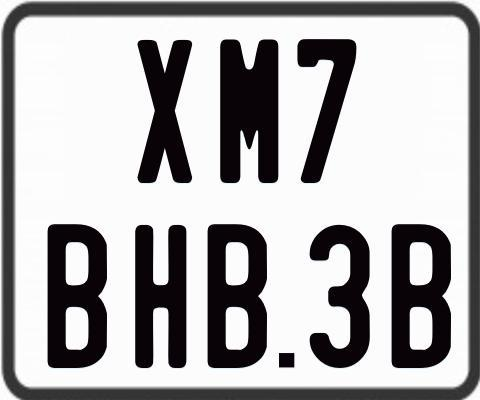3: (310, 222, 373, 367)
7: (297, 37, 361, 184)
B: (389, 224, 454, 372), (205, 221, 266, 370), (47, 224, 106, 370)
H: (135, 225, 186, 374)
M: (220, 37, 282, 182)
X: (135, 40, 193, 187)
